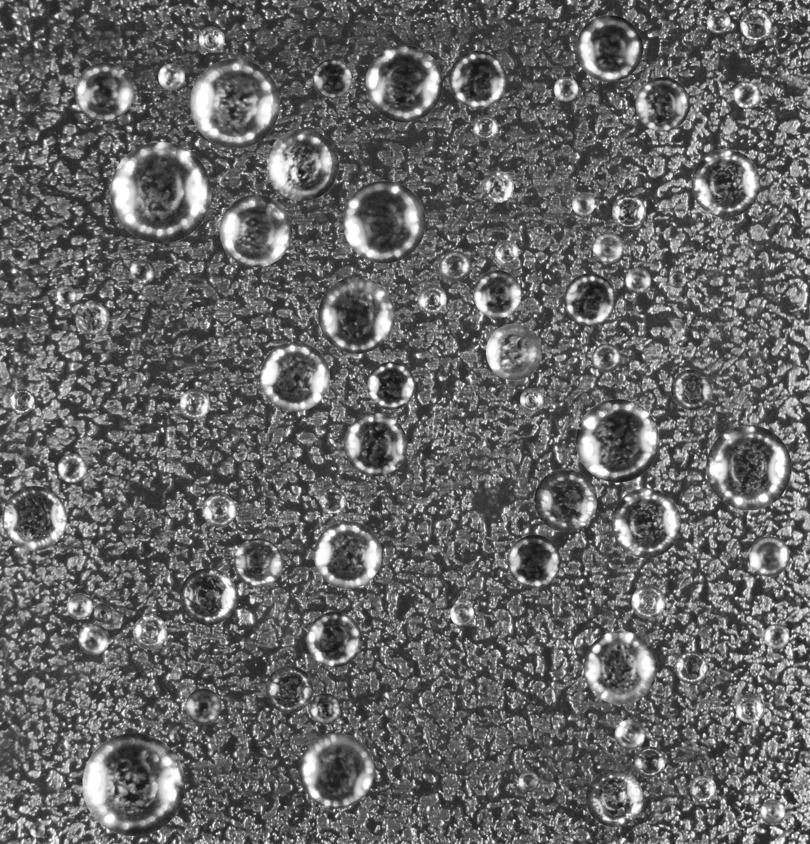Bubble: (82, 733, 185, 836), (110, 142, 211, 243), (190, 58, 280, 148), (706, 425, 791, 510), (576, 399, 659, 482), (343, 180, 425, 263), (365, 45, 442, 122), (318, 277, 394, 353), (299, 733, 374, 808), (583, 631, 657, 704), (219, 194, 292, 267), (266, 128, 338, 200), (611, 488, 681, 558), (260, 341, 329, 411), (691, 149, 760, 217), (314, 521, 381, 588), (576, 15, 643, 81), (2, 486, 66, 550), (344, 413, 407, 476), (534, 469, 597, 531), (74, 62, 133, 121), (585, 769, 643, 827), (179, 568, 237, 625), (449, 50, 506, 108), (486, 323, 542, 380), (306, 611, 362, 667), (635, 77, 689, 131), (507, 534, 560, 587), (564, 273, 615, 325), (233, 538, 282, 587), (367, 361, 415, 409), (265, 665, 313, 713), (473, 270, 521, 318), (671, 369, 712, 410), (749, 536, 789, 576), (312, 59, 351, 98), (185, 688, 221, 724), (75, 300, 109, 334), (612, 195, 646, 229), (202, 493, 236, 527), (133, 615, 167, 649), (631, 585, 665, 619), (675, 651, 707, 684), (740, 8, 772, 40), (309, 693, 341, 724), (482, 171, 514, 202), (78, 623, 109, 654), (634, 746, 665, 777), (614, 719, 645, 750), (179, 389, 210, 419), (440, 250, 470, 281), (593, 232, 623, 263), (735, 694, 764, 723), (592, 343, 621, 372), (57, 453, 86, 482), (417, 284, 446, 313), (733, 81, 760, 108), (158, 63, 184, 90), (625, 267, 651, 293), (198, 26, 224, 52), (66, 593, 92, 619), (320, 487, 346, 513), (690, 776, 716, 802), (493, 240, 519, 265), (553, 76, 578, 101), (473, 115, 498, 140), (760, 799, 785, 824), (764, 624, 789, 649), (129, 259, 154, 284), (9, 389, 34, 413), (706, 9, 730, 33), (450, 602, 474, 625), (520, 388, 543, 411), (572, 192, 595, 215), (518, 771, 539, 792), (92, 603, 112, 622), (785, 182, 804, 201), (56, 285, 75, 304), (669, 270, 686, 288), (29, 822, 45, 838)
